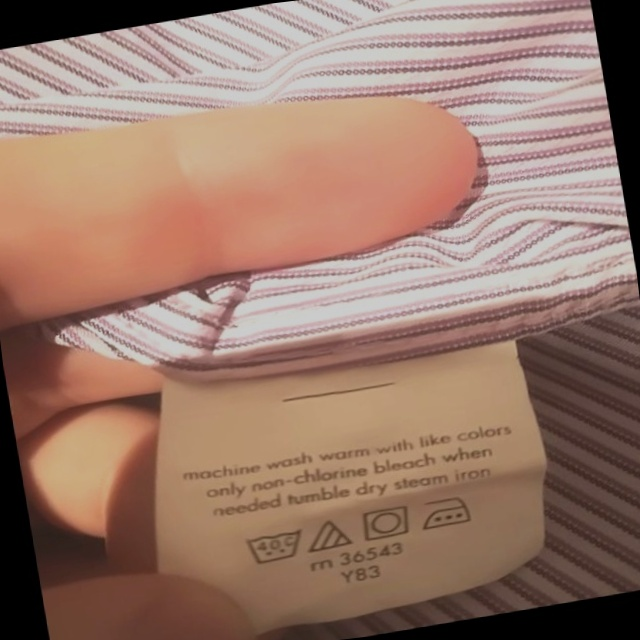40C: (242, 524, 309, 571)
iron_high: (418, 490, 479, 534)
non_chlorine_bleach: (303, 515, 355, 557)
tumble_dry_normal: (359, 503, 417, 545)
